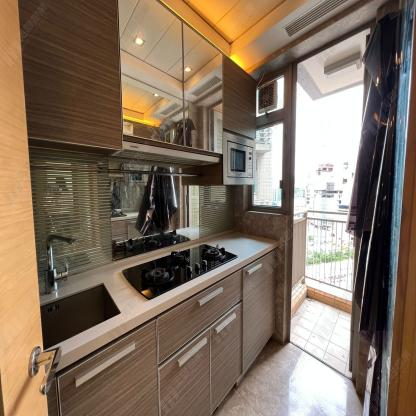Cupboard: (56, 249, 277, 416), (18, 0, 259, 153)
Exhaust Hood: (110, 139, 220, 170)
Faucet: (41, 227, 78, 293)
Microwave: (221, 131, 256, 185)
Sink: (40, 281, 121, 350)
Stove: (121, 240, 237, 300)
